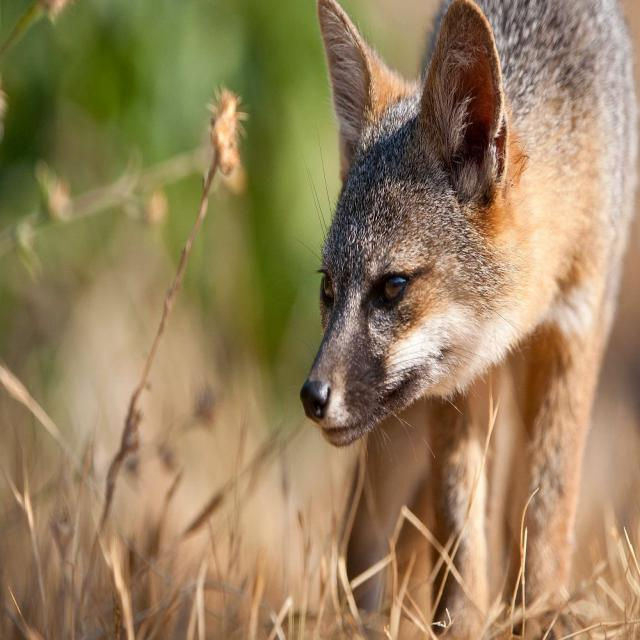fox: (301, 0, 638, 599)
